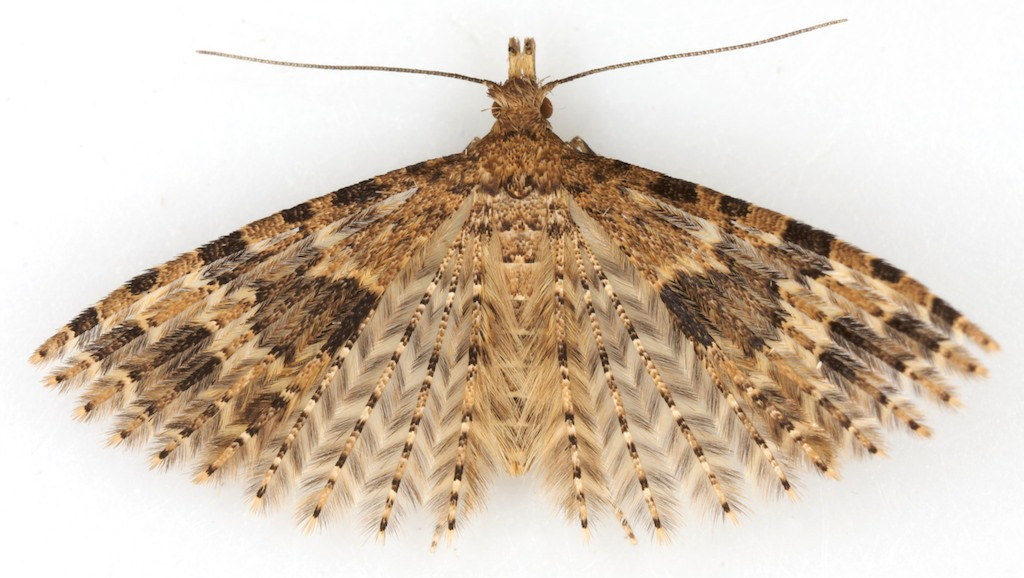Alucitidae: (19, 12, 998, 560)
moth: (17, 10, 996, 558)
